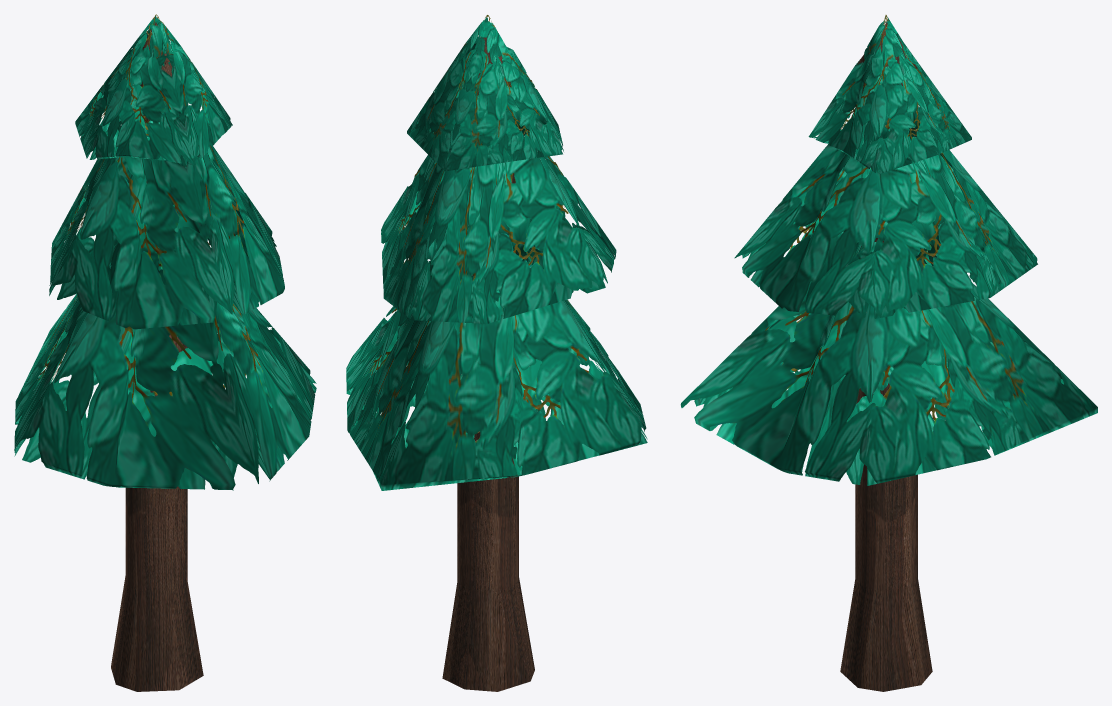
The model's file is Ingame_3d_001.fbx.
3 renders of one model, left to right at view 1: azimuth 30°, elevation 25°; view 2: azimuth 150°, elevation 25°; view 3: azimuth 270°, elevation 25°, orthographic.
Visible parts, largest first — view 1: Cube.004, Cube.002, Cube, Cube.003; view 2: Cube.004, Cube.002, Cube, Cube.003; view 3: Cube.004, Cube.002, Cube, Cube.003.
Part boxes in pixels (<box>): Cube.004: <box>14,242,316,490</box>; Cube.002: <box>49,121,284,329</box>; Cube: <box>111,22,203,691</box>; Cube.003: <box>75,14,232,165</box>; Cube.004: <box>346,252,647,490</box>; Cube.002: <box>381,128,616,323</box>; Cube: <box>442,37,534,691</box>; Cube.003: <box>407,15,563,171</box>; Cube.004: <box>680,242,1097,485</box>; Cube.002: <box>734,123,1037,318</box>; Cube: <box>840,22,932,691</box>; Cube.003: <box>808,15,971,173</box>.
Size of the model in its own units: 433 by 900 by 522.
